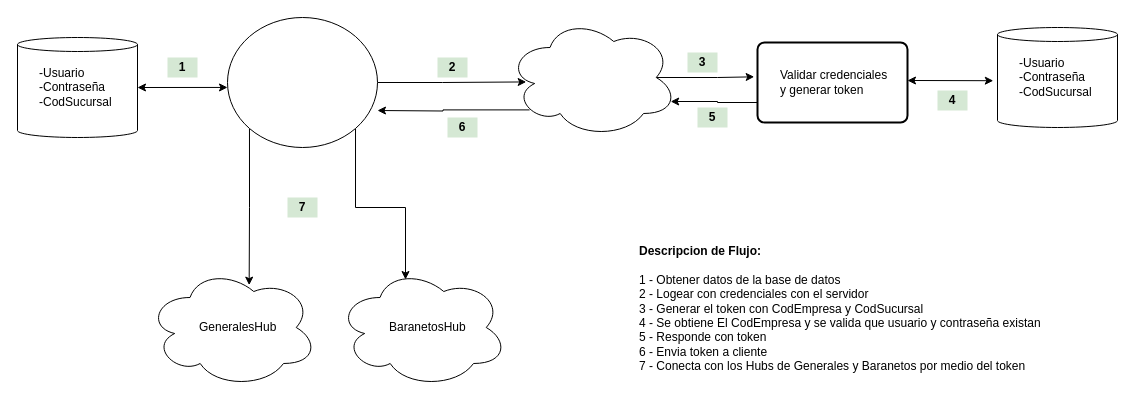
This 1135x405 diagram has some shape labels left out. Each missing label, with the box of its shape:
Cliente Sucursal: (226, 16, 378, 148)
LogInHub: (506, 16, 678, 138)
